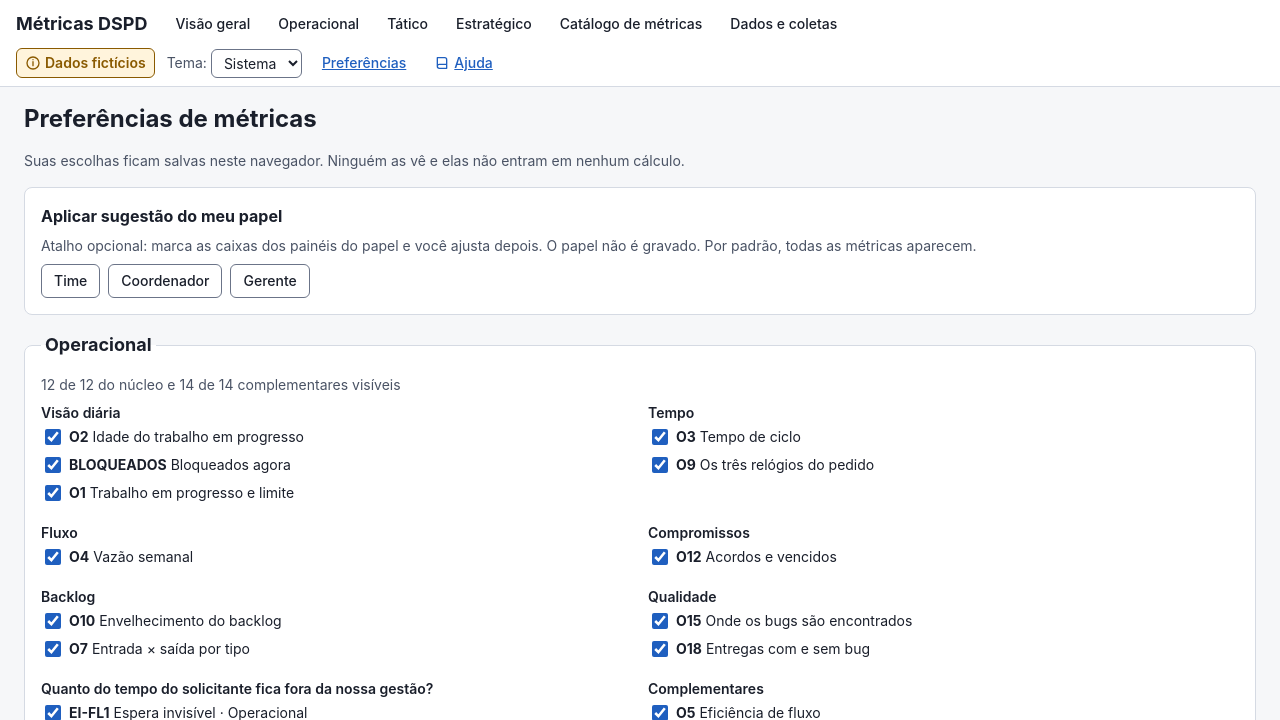
perfil /preferencias › perfil salvo por versão mais nova: avisa que não será alterado (A6)
The width and height of the screenshot is (1280, 720).
Click the checkbox labelled "O9 Os três relógios do pedido" at (660, 465), box [652,457,668,473]
(page scrolled)
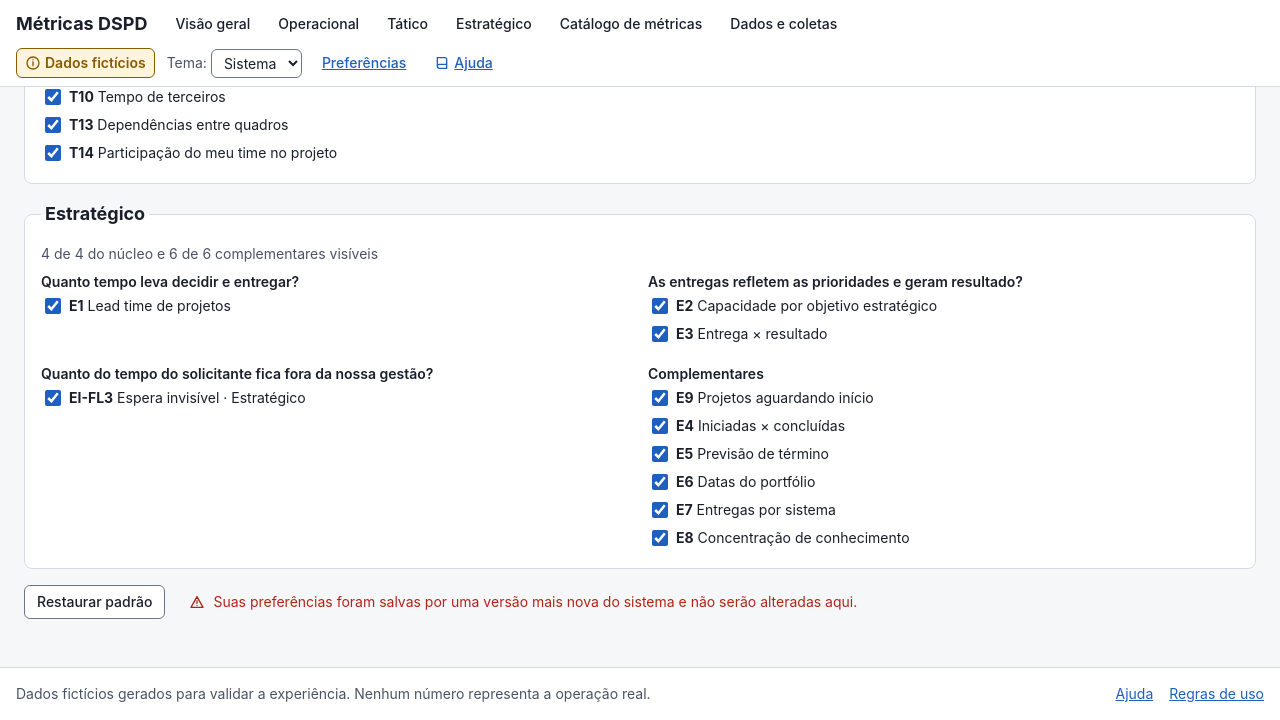
Check: the message shows "Suas preferências foram salvas por uma versão mais nova do sistema e não serão alteradas aqui.", box [214,593,857,610]
